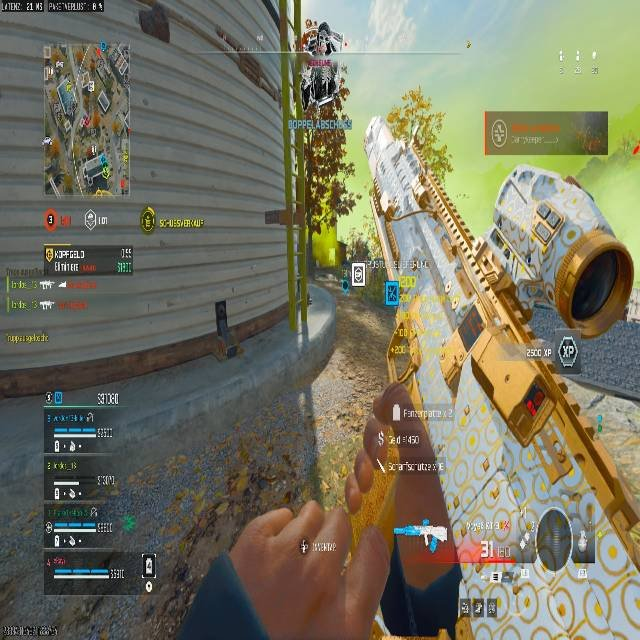player: (299, 21, 346, 110), (77, 146, 111, 194)
